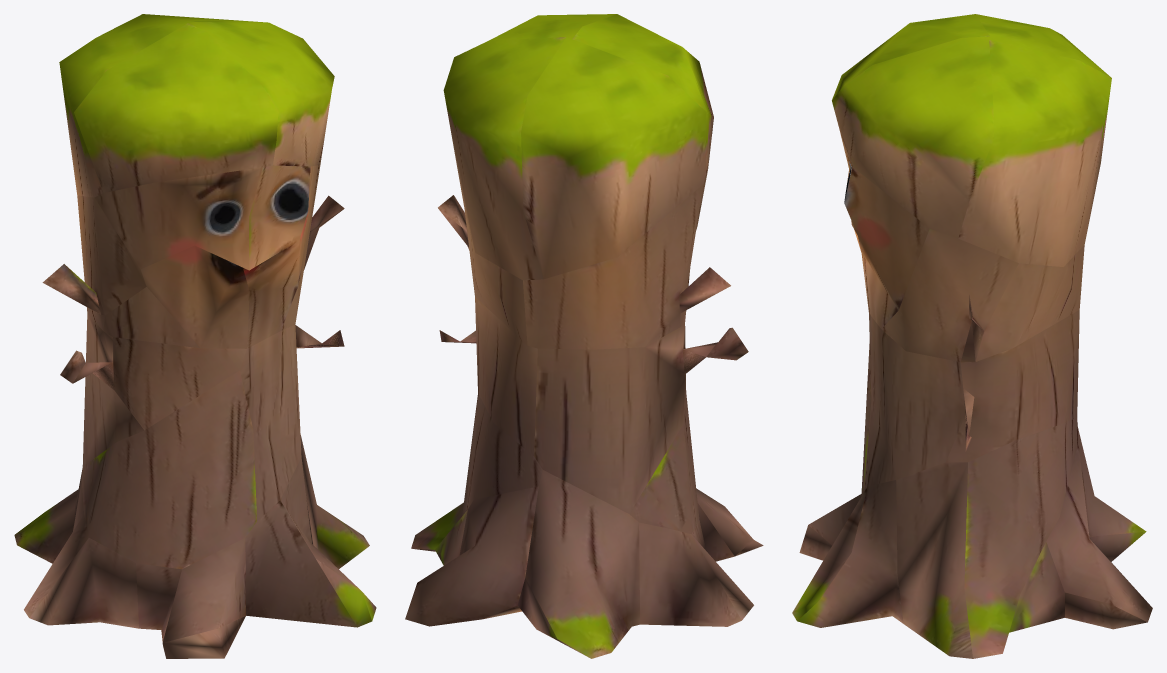
The model's file is stump.glb.
3 views of the same model, side by side, from view 1: azimuth 30°, elevation 25°; view 2: azimuth 150°, elevation 25°; view 3: azimuth 270°, elevation 25° (orthographic).
Bounding box in the file's own units: 1.2 × 1.91 × 1.14.
Materials: 1 (1 with a texture image).
